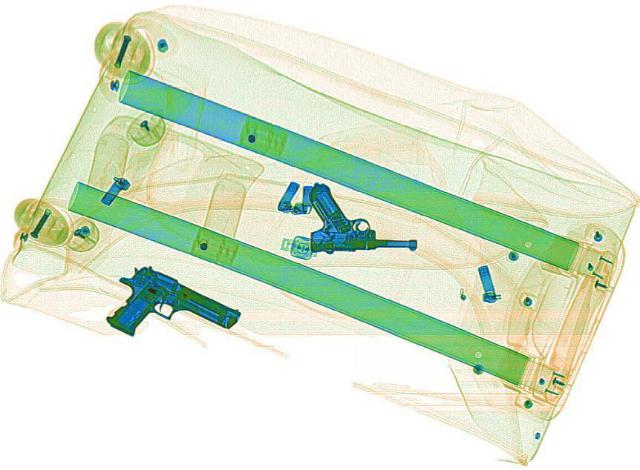Gun: (82, 259, 245, 364), (306, 180, 416, 250)
